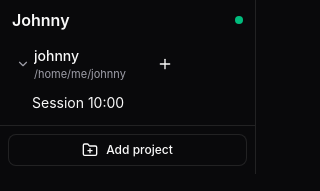
Sidebar › collapses a project to just its name and remembers that
Expected: the text "/home/me/johnny" is shown, [34,67,126,81]
Click the button "johnny /home/me/johnny" at (80, 64), box [12,44,147,84]
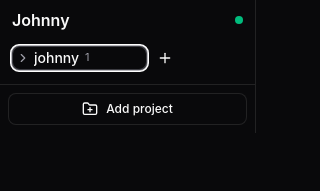
Expected: the text "/home/me/johnny" is gone
Expected: the button "Session 10:00" is gone
